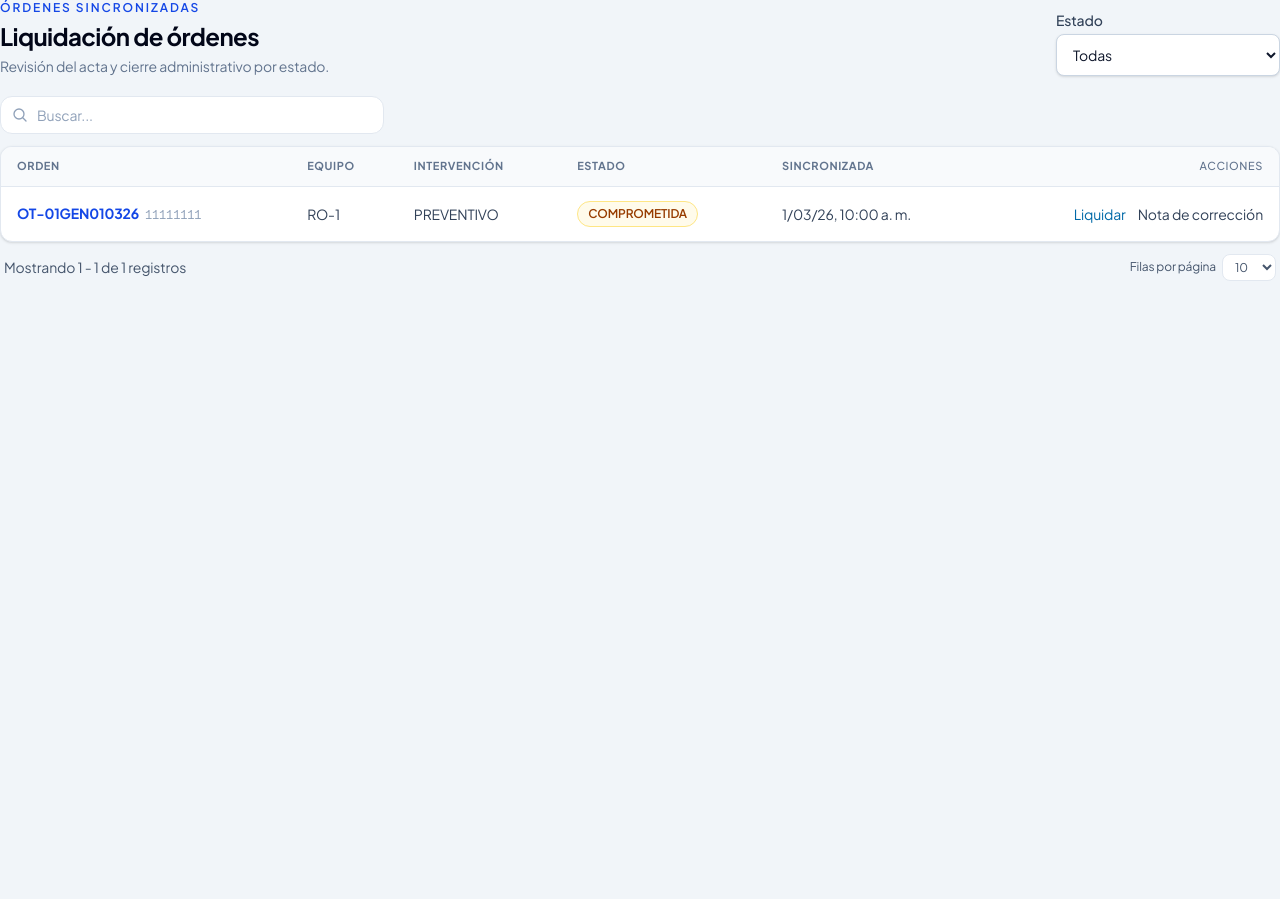
Test: LiquidacionPage › muestra el acta en solo lectura al abrir la adenda
Step 1. Click the button with aria-label "nota administrativa de corrección" → (1200, 214), box [1138,204,1263,224]
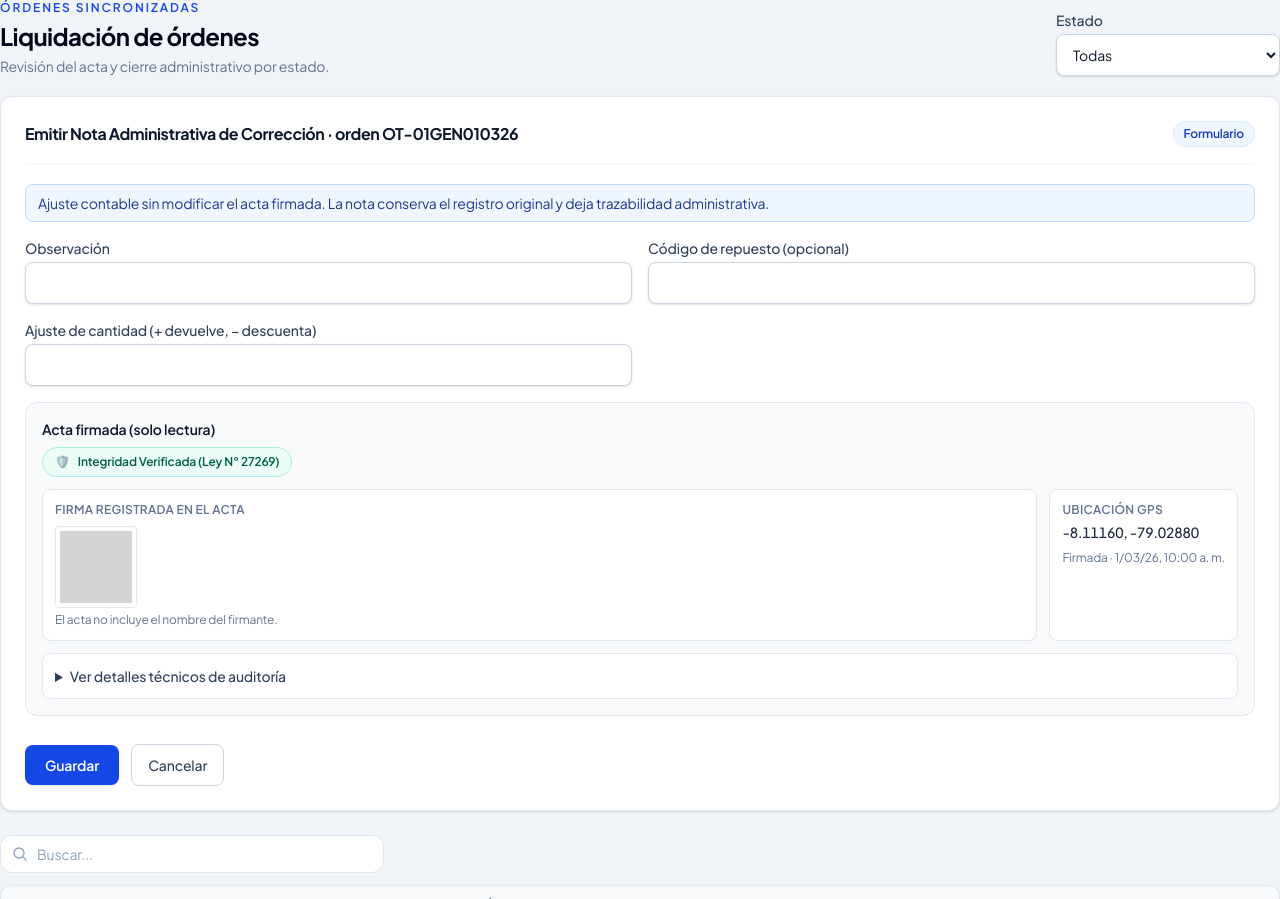
Expected: the text "🛡️ Integridad Verificada (Ley N° 27269)" is shown, [42,447,292,477]
Expected: the text "-8.11160, -79.02880" is shown, [1062,523,1199,541]
Expected: the heading "Emitir Nota Administrativa de Corrección" is shown, [25,123,518,144]
Step 2. Click the heading "Ver detalles técnicos de auditoría" → (178, 676), box [70,667,286,685]
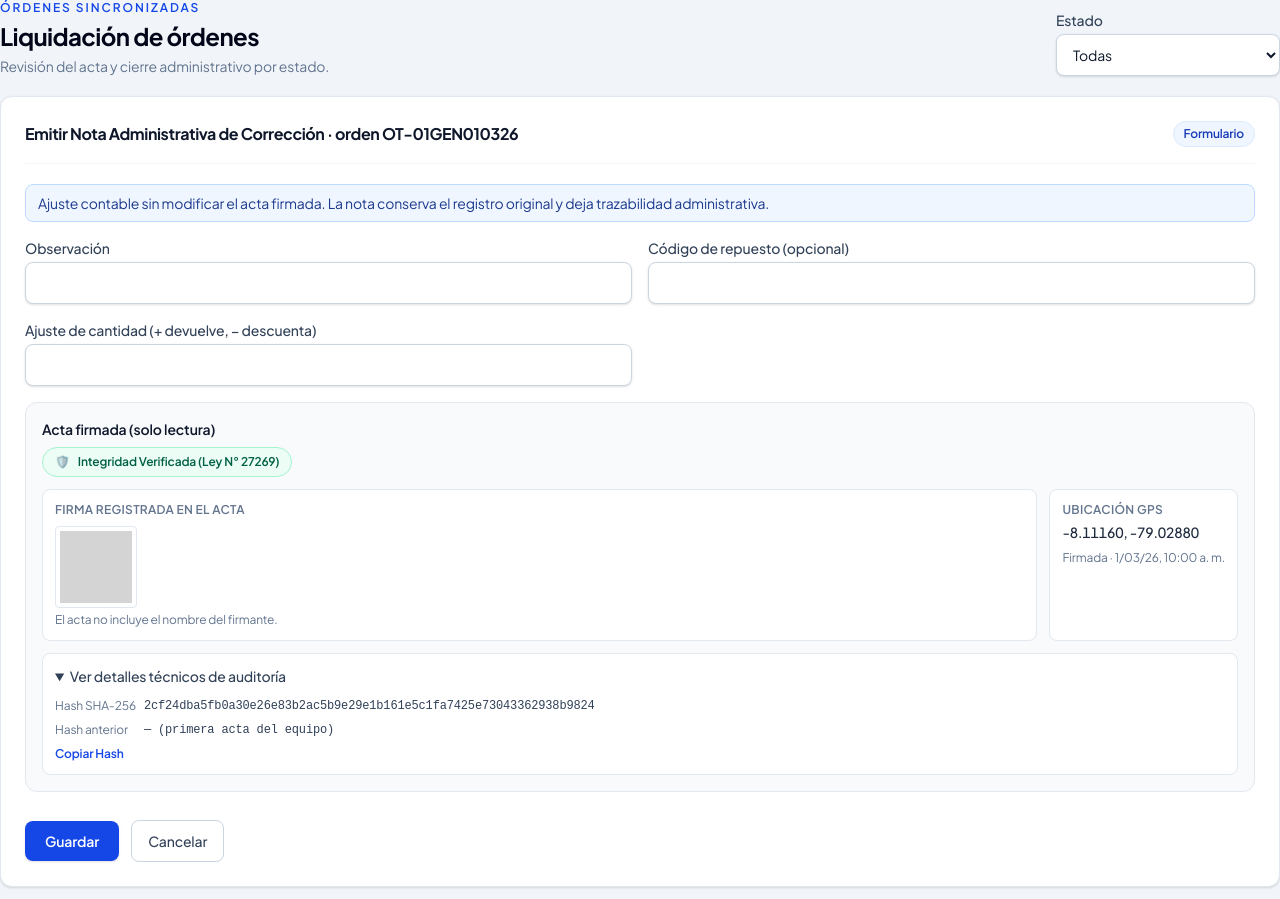
Expected: the text "2cf24dba5fb0a30e26e83b2ac5b9e29e1b161e5c1fa7425e73043362938b9824" is shown, [144,699,595,713]
